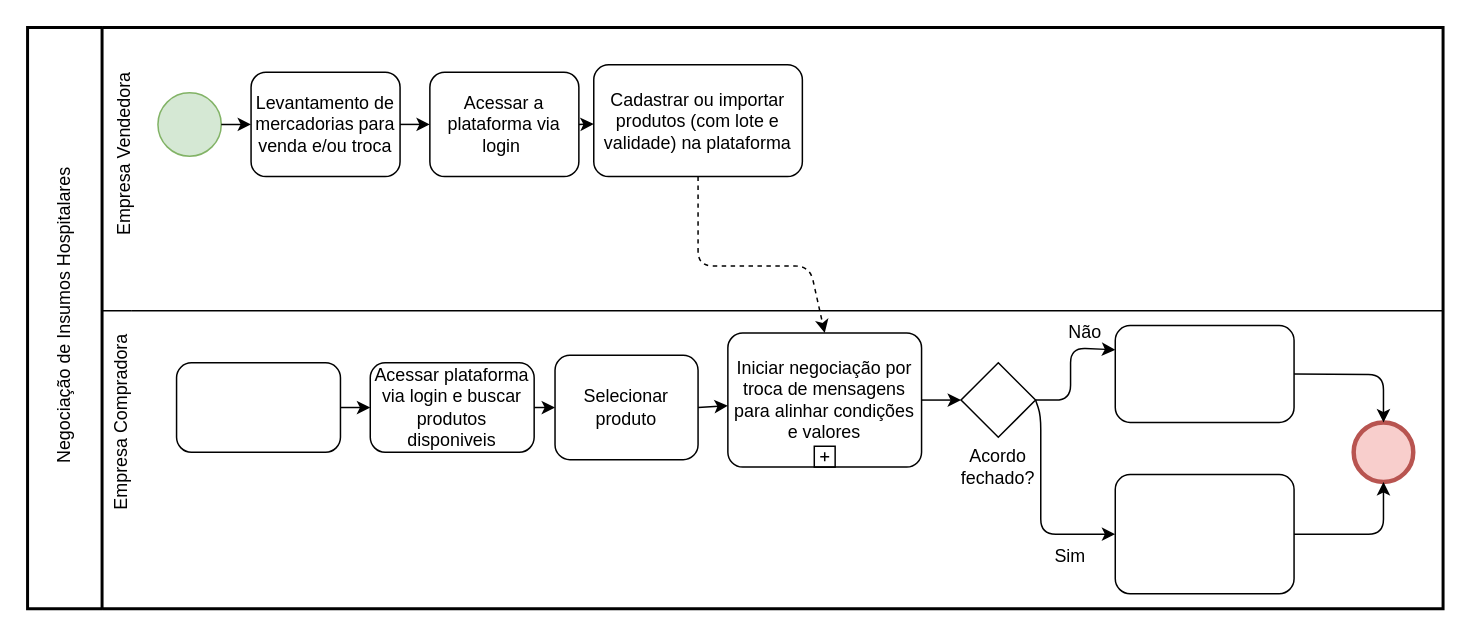
Some shapes in this 1469 by 635 pixel diagram are drawn without their labels. Each missing label, with the centre of its shape:
Concluir negociação e emitir nota fiscal (Fora do sistema): [1204,533]
Encerrar negociação na plataforma: [1204,373]
Levantamento de mercadorias em falta para a compra: [257,406]
